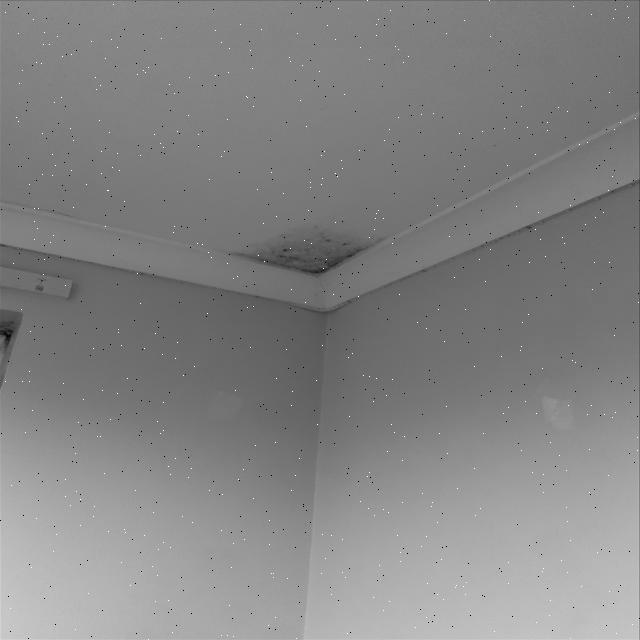stain marks: (218, 213, 386, 282)
